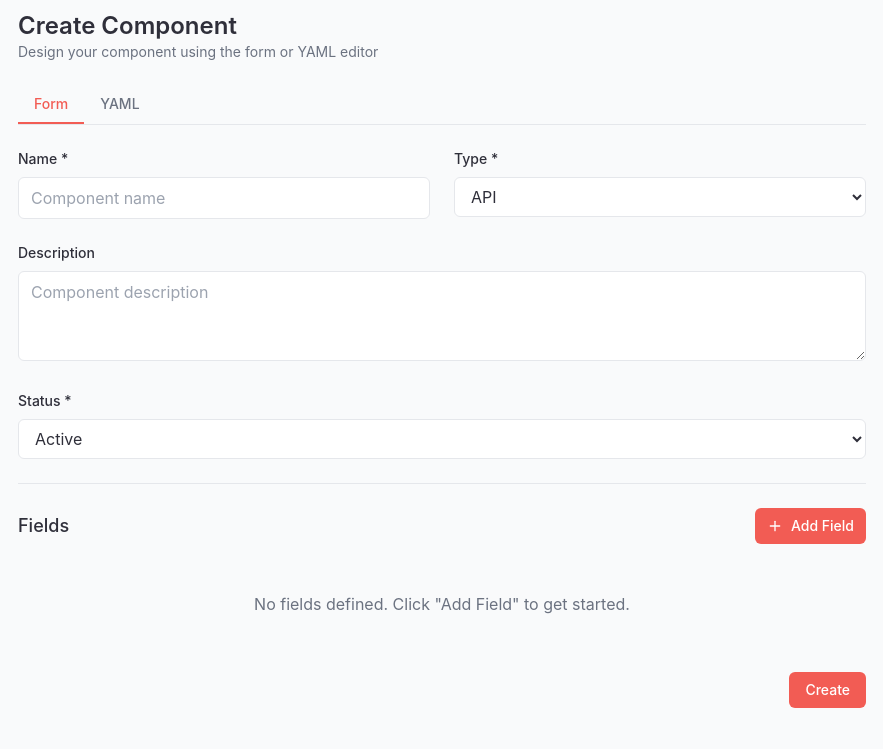
ComponentDesigner › validates required fields
Click the button "Create": (828, 690) [789,672,866,708]
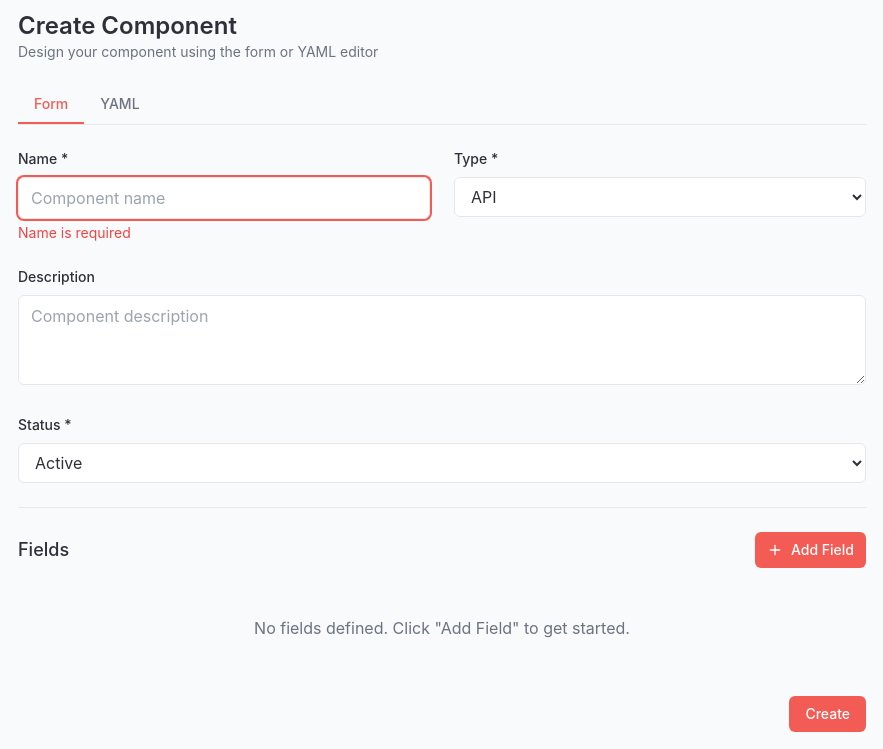
Now the text "Name is required" is shown, box [18,224,131,241]
